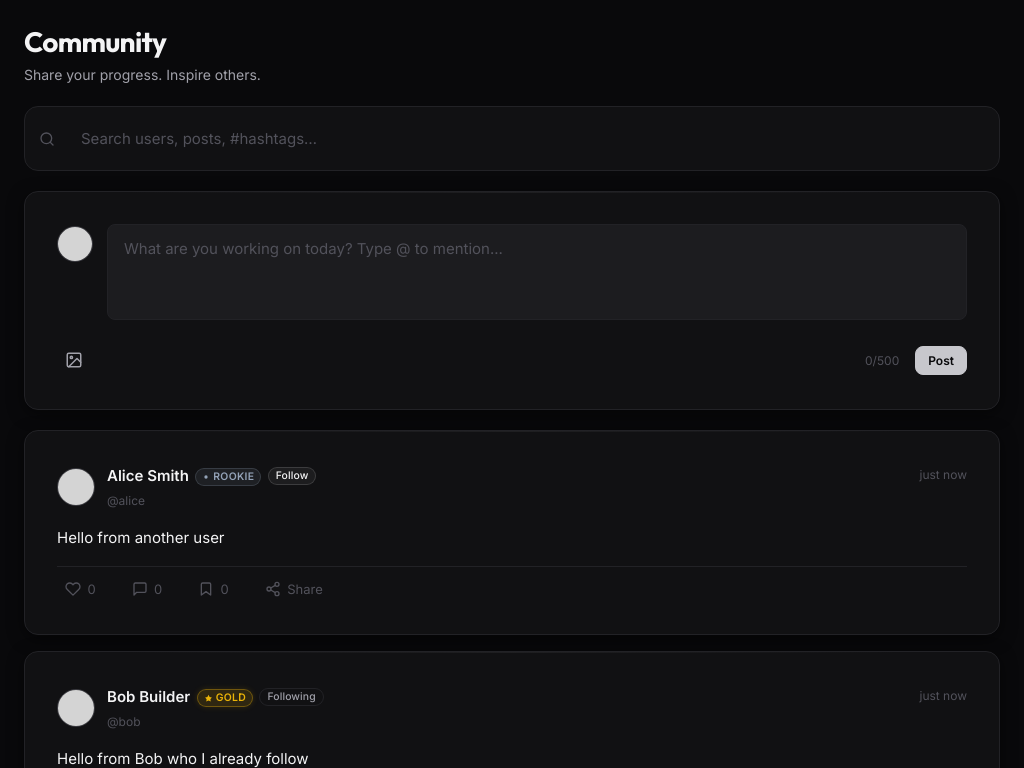
Test: CommunityComponent - Follow Button UI & Logic › should follow user optimistically and update button to "Following" on click
The width and height of the screenshot is (1024, 768).
What coordinates should you click on to do the following:
click the button "Follow"
I would click on:
 (292, 476)
Its box is left=268, top=467, right=316, bottom=485.
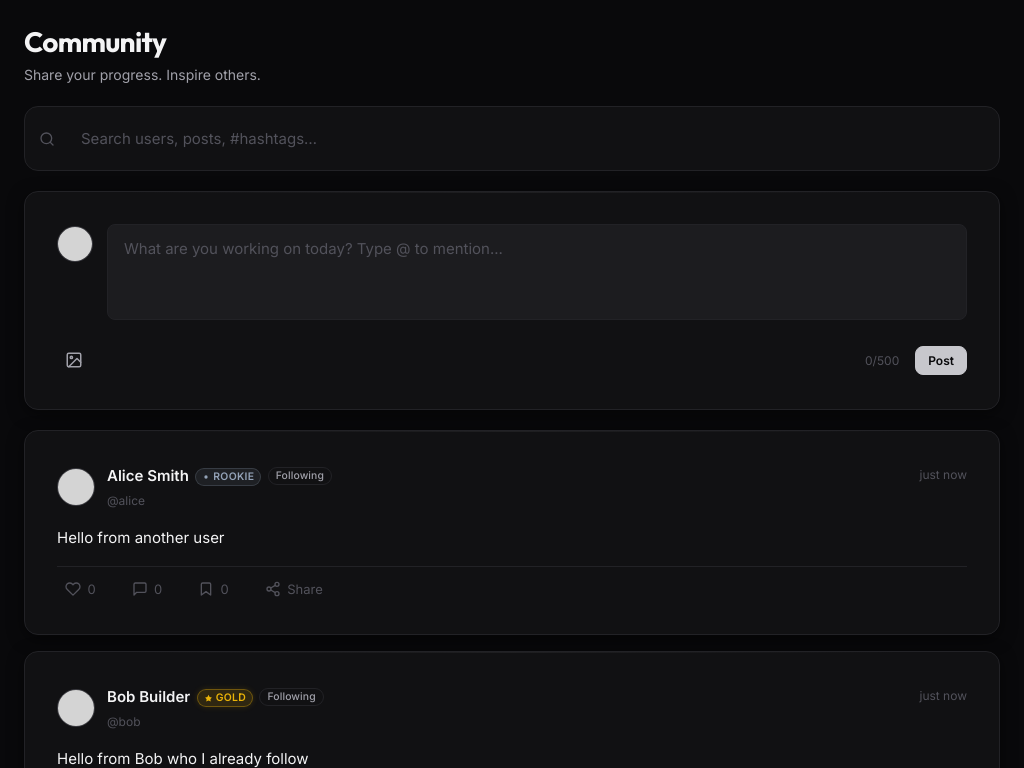
expect the button "Following" next to "Rookie" is shown: met, box left=268, top=467, right=332, bottom=485
